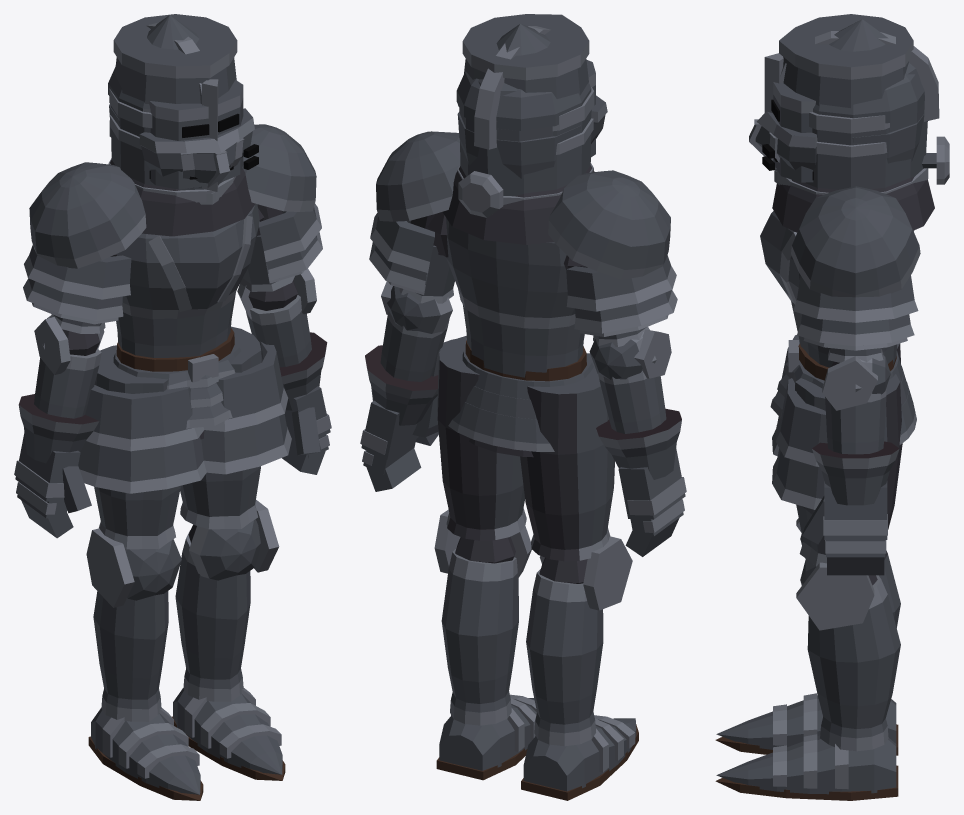
File: knight.glb
3 views of the same model, side by side, from view 1: azimuth 30°, elevation 25°; view 2: azimuth 150°, elevation 25°; view 3: azimuth 270°, elevation 25° (orthographic). The views are drawn at different scales.
Visible parts, largest first — view 1: K_Shin_L_Mesh, K_Shin_R_Mesh, K_Helm_Bascinet_Mesh, K_Tasset_R_Mesh, K_Chest_Mesh, K_Helm_Great_Mesh, K_Shoulder_R_Mesh, K_Tasset_L_Mesh, K_Foot_R_Mesh, K_Foot_L_Mesh, K_Hand_R_Mesh, K_Thigh_R_Mesh (+14 smaller); view 2: K_Shin_R_Mesh, K_Shin_L_Mesh, K_Thigh_R_Mesh, K_Helm_Armet_Mesh, K_Chest_Mesh, K_Shoulder_R_Mesh, K_Thigh_L_Mesh, K_Helm_Bascinet_Mesh, K_Helm_Great_Mesh, K_Hips_Mesh, K_Shoulder_L_Mesh, K_Foot_R_Mesh (+13 smaller); view 3: K_Shin_L_Mesh, K_Helm_Great_Mesh, K_Shoulder_L_Mesh, K_Helm_Bascinet_Mesh, K_Helm_Armet_Mesh, K_Foot_L_Mesh, K_Hand_L_Mesh, K_Pauldron_L_Mesh, K_Tasset_L_Mesh, K_Foot_R_Mesh, K_UpperArm_L_Mesh, K_Thigh_L_Mesh (+6 smaller).
Boxes of the visible parts, x1,y1,x2,y2 form: K_Shin_L_Mesh: [175, 500, 279, 701]; K_Shin_R_Mesh: [86, 528, 181, 721]; K_Helm_Bascinet_Mesh: [108, 15, 255, 236]; K_Tasset_R_Mesh: [78, 385, 206, 493]; K_Chest_Mesh: [110, 204, 264, 319]; K_Helm_Great_Mesh: [109, 14, 237, 204]; K_Shoulder_R_Mesh: [29, 162, 146, 268]; K_Tasset_L_Mesh: [201, 342, 291, 474]; K_Foot_R_Mesh: [88, 708, 203, 800]; K_Foot_L_Mesh: [172, 688, 285, 780]; K_Hand_R_Mesh: [14, 394, 99, 513]; K_Thigh_R_Mesh: [94, 345, 180, 549]; K_Shin_R_Mesh: [526, 536, 632, 746]; K_Shin_L_Mesh: [434, 509, 531, 725]; K_Thigh_R_Mesh: [520, 353, 614, 561]; K_Helm_Armet_Mesh: [456, 26, 607, 217]; K_Chest_Mesh: [427, 212, 587, 328]; K_Shoulder_R_Mesh: [548, 170, 670, 279]; K_Thigh_L_Mesh: [437, 336, 526, 540]; K_Helm_Bascinet_Mesh: [442, 23, 595, 244]; K_Helm_Great_Mesh: [458, 14, 594, 154]; K_Hips_Mesh: [448, 340, 593, 457]; K_Shoulder_L_Mesh: [376, 131, 460, 221]; K_Foot_R_Mesh: [521, 715, 638, 800]; K_Shin_L_Mesh: [796, 559, 900, 751]; K_Helm_Great_Mesh: [764, 14, 913, 185]; K_Shoulder_L_Mesh: [791, 186, 920, 297]; K_Helm_Bascinet_Mesh: [771, 19, 934, 232]; K_Helm_Armet_Mesh: [749, 31, 949, 184]; K_Foot_L_Mesh: [715, 734, 898, 800]; K_Hand_L_Mesh: [802, 441, 899, 544]; K_Pauldron_L_Mesh: [793, 275, 918, 346]; K_Tasset_L_Mesh: [772, 378, 827, 509]; K_Foot_R_Mesh: [715, 693, 898, 755]; K_UpperArm_L_Mesh: [803, 337, 907, 410]; K_Thigh_L_Mesh: [795, 374, 902, 566].
Size of the model in its own units: 0.7559 by 1.78 by 0.5074.
